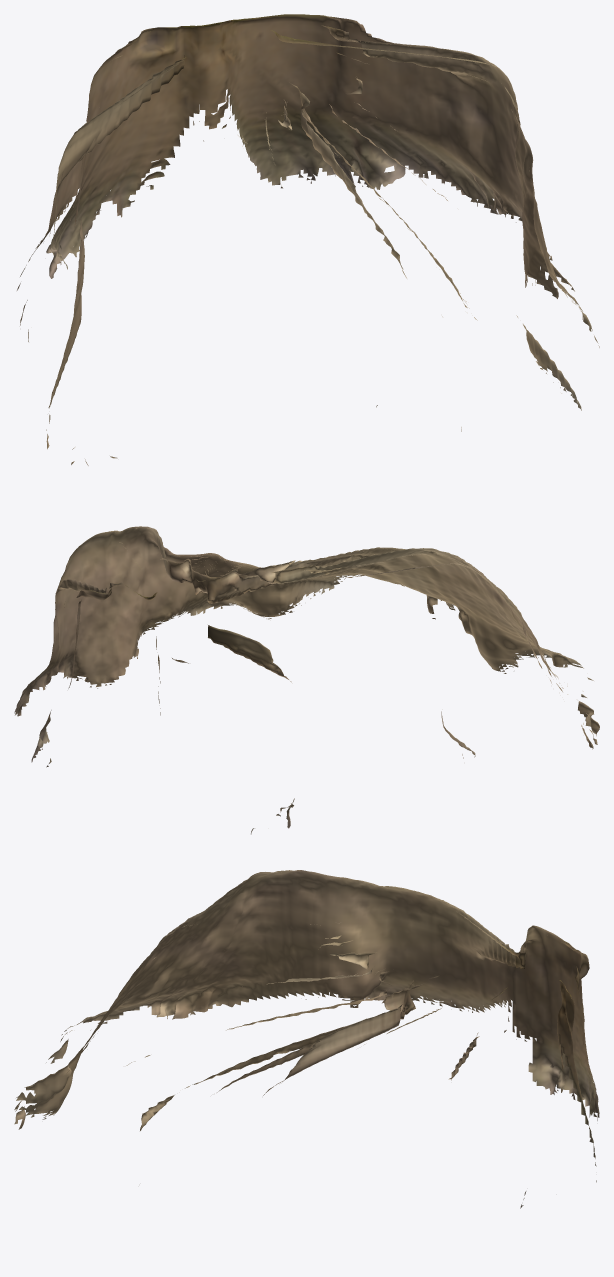
Rendered from collider.glb.
3 renders of one model, top to bottom at view 1: azimuth 30°, elevation 25°; view 2: azimuth 150°, elevation 25°; view 3: azimuth 270°, elevation 25°, orthographic. The views are drawn at different scales.
Visible parts, largest first — view 1: world; view 2: world; view 3: world.
Boxes of the visible parts, x1,y1,x2,y2 form: world: (17,14,599,465); world: (14,526,599,834); world: (14,870,599,1208).
Size of the model in its own units: 32.45 by 12.72 by 31.42.
